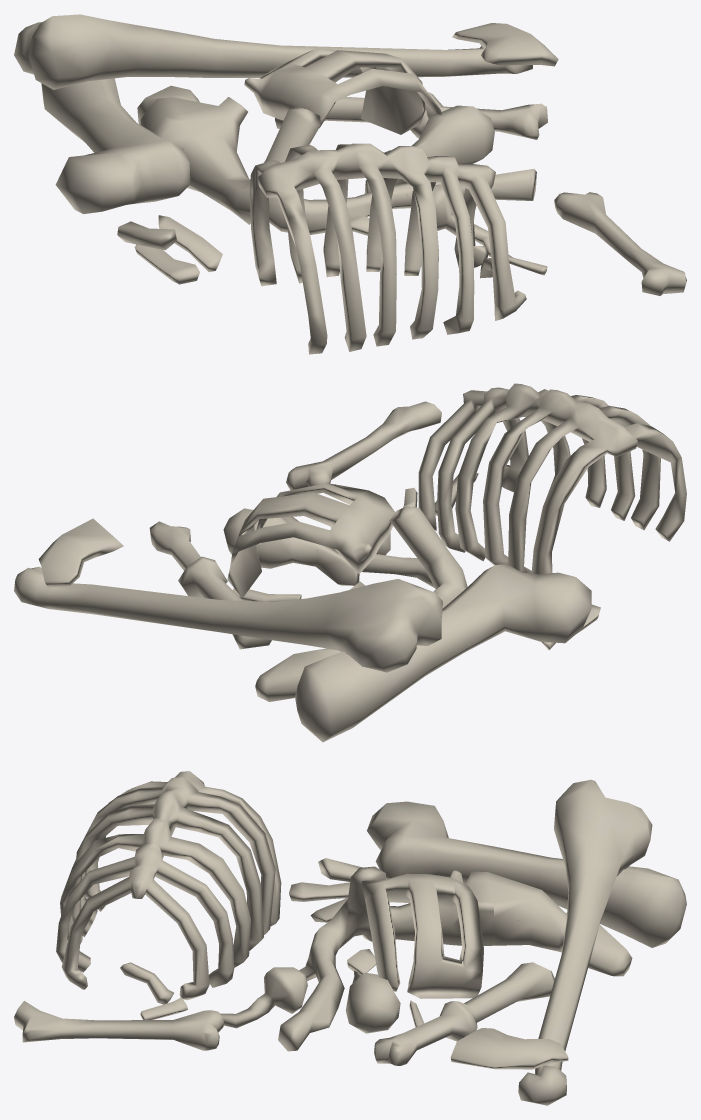
File: Huesos.fbx
The picture shows the model from 3 angles, top to bottom: view 1: azimuth 30°, elevation 25°; view 2: azimuth 150°, elevation 25°; view 3: azimuth 270°, elevation 25°; orthographic projection. The views are drawn at different scales.
Visible parts, largest first — view 1: tripo_node_0e2e0dd3; view 2: tripo_node_0e2e0dd3; view 3: tripo_node_0e2e0dd3.
Part boxes in pixels (x1,y1,x2,y2): tripo_node_0e2e0dd3: (14,14,686,354); tripo_node_0e2e0dd3: (14,383,686,742); tripo_node_0e2e0dd3: (14,771,686,1105).
Size of the model in its own units: 212 by 64.71 by 250.
